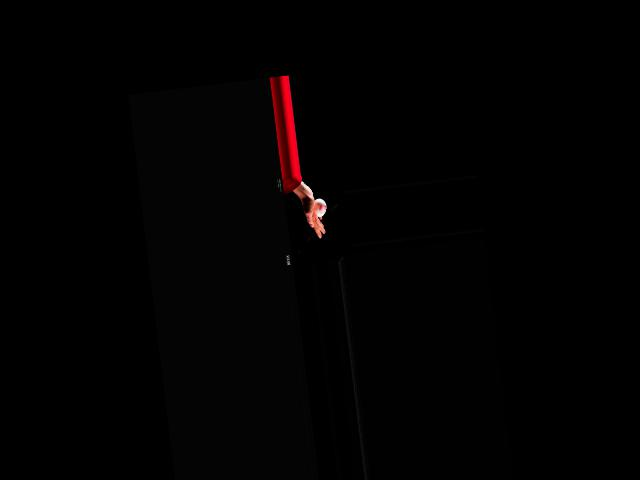egg: (313, 197, 327, 216)
